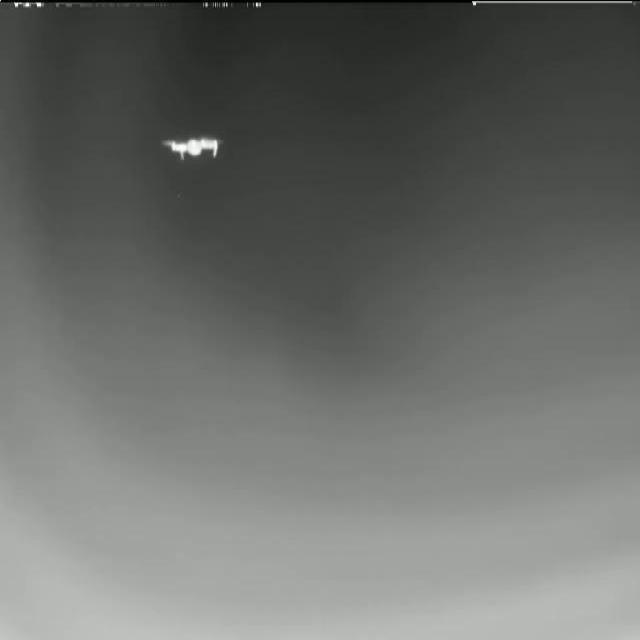DRONE: (161, 134, 223, 164)
